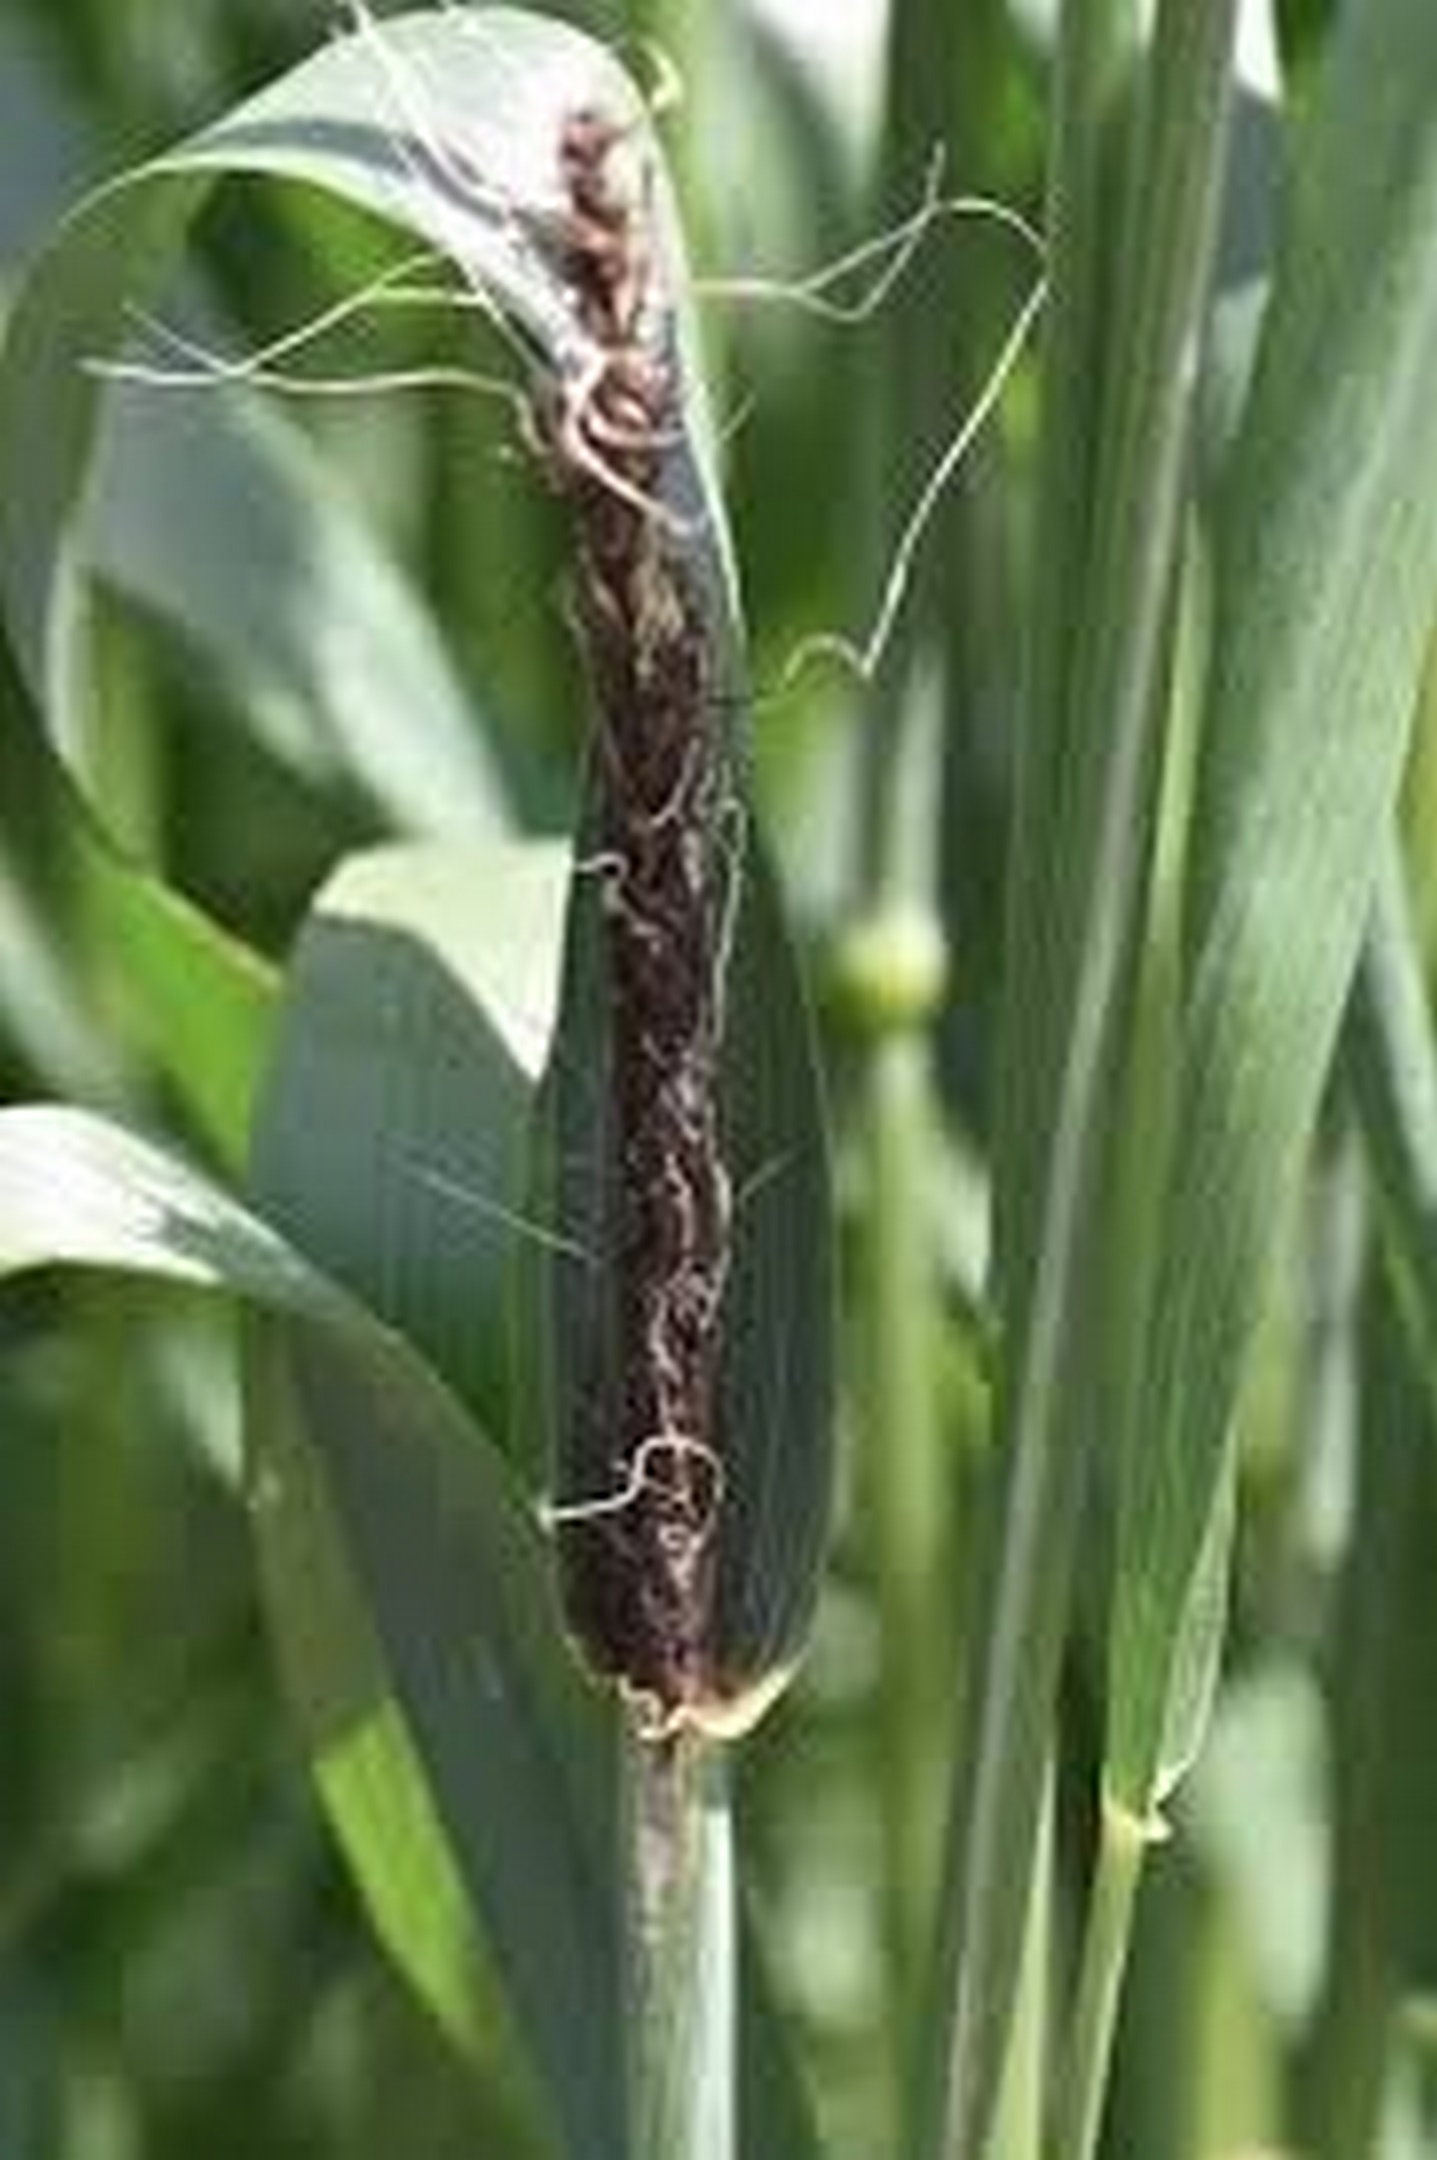Wheat Loose Smut: (491, 269, 909, 1652)
